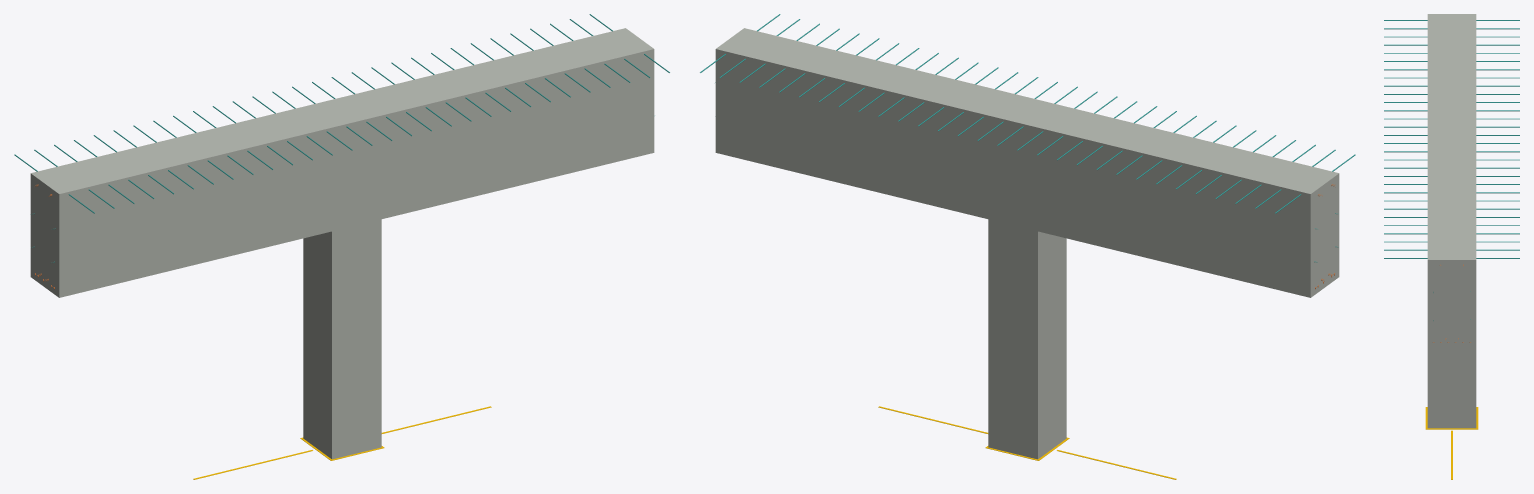
File: unterzug-441-vorort15.glb
3 renders of one model, left to right at view 1: azimuth 30°, elevation 25°; view 2: azimuth 150°, elevation 25°; view 3: azimuth 270°, elevation 25°, orthographic. The views are drawn at different scales.
Visible parts, largest first — view 1: Beton; view 2: Beton; view 3: Beton, Pos_30_geschaetzt_71, Pos_30_geschaetzt_72, Pos_30_geschaetzt_73, Pos_30_geschaetzt_76, Pos_30_geschaetzt_77, Pos_30_geschaetzt_78, Pos_30_geschaetzt_81, Pos_30_geschaetzt_82, Pos_30_geschaetzt_83, Pos_30_geschaetzt_86, Pos_30_geschaetzt_87 (+7 smaller).
Boxes of the visible parts, x1,y1,x2,y2 form: Beton: [30, 28, 654, 459]; Beton: [715, 28, 1339, 459]; Beton: [1427, 14, 1476, 428]; Pos_30_geschaetzt_71: [1384, 28, 1519, 29]; Pos_30_geschaetzt_72: [1384, 36, 1519, 37]; Pos_30_geschaetzt_73: [1384, 44, 1519, 45]; Pos_30_geschaetzt_76: [1384, 69, 1519, 70]; Pos_30_geschaetzt_77: [1384, 77, 1519, 78]; Pos_30_geschaetzt_78: [1384, 85, 1519, 86]; Pos_30_geschaetzt_81: [1384, 110, 1519, 111]; Pos_30_geschaetzt_82: [1384, 118, 1519, 119]; Pos_30_geschaetzt_83: [1384, 126, 1519, 127]; Pos_30_geschaetzt_86: [1384, 151, 1519, 152]; Pos_30_geschaetzt_87: [1384, 159, 1519, 160].
Size of the model in its own units: 6.1 by 3.2 by 1.4.
